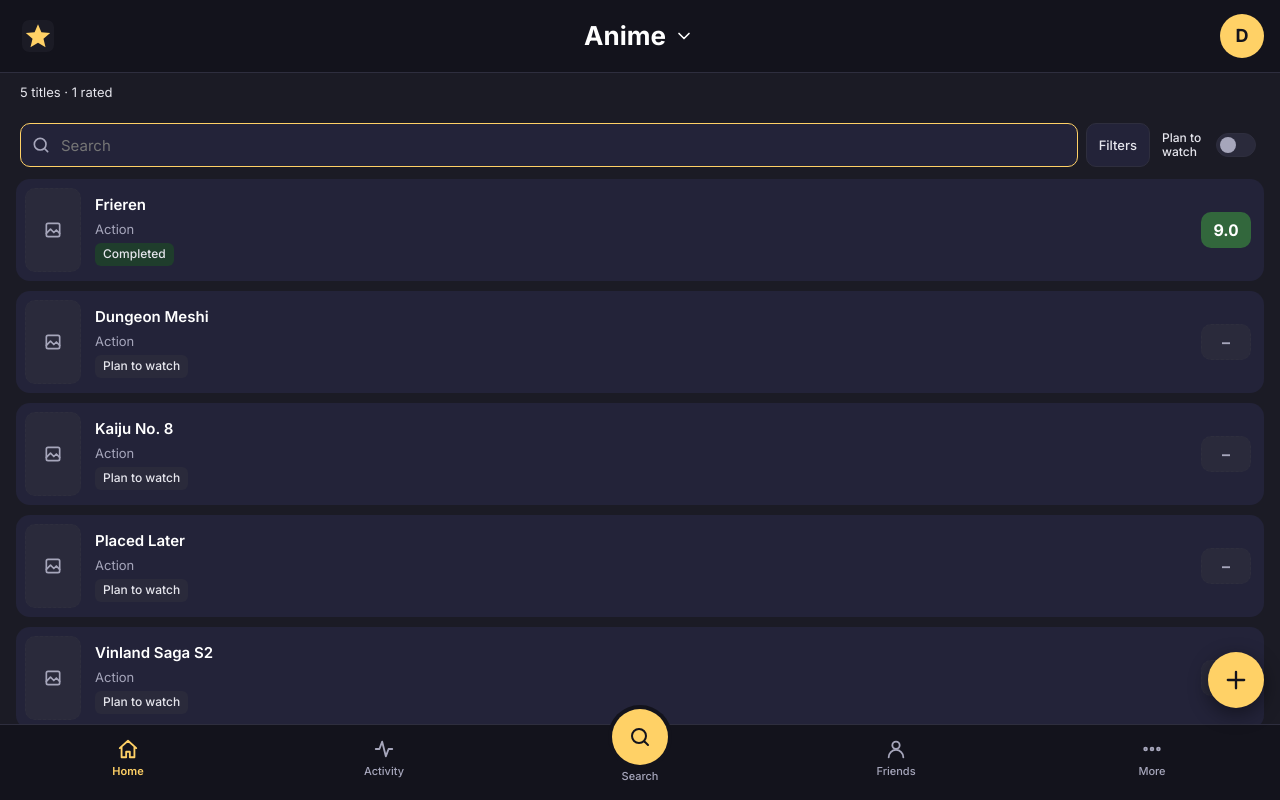
Test: Plan to watch view › reordering › while a search or genre filter hides titles, nothing can be moved but positions stay true
Check: the text "Frieren" is shown, box 95,194 -> 146,215
Click the switch labelled "Plan to watch": coordinates (1209, 145) 1158,123 -> 1260,167
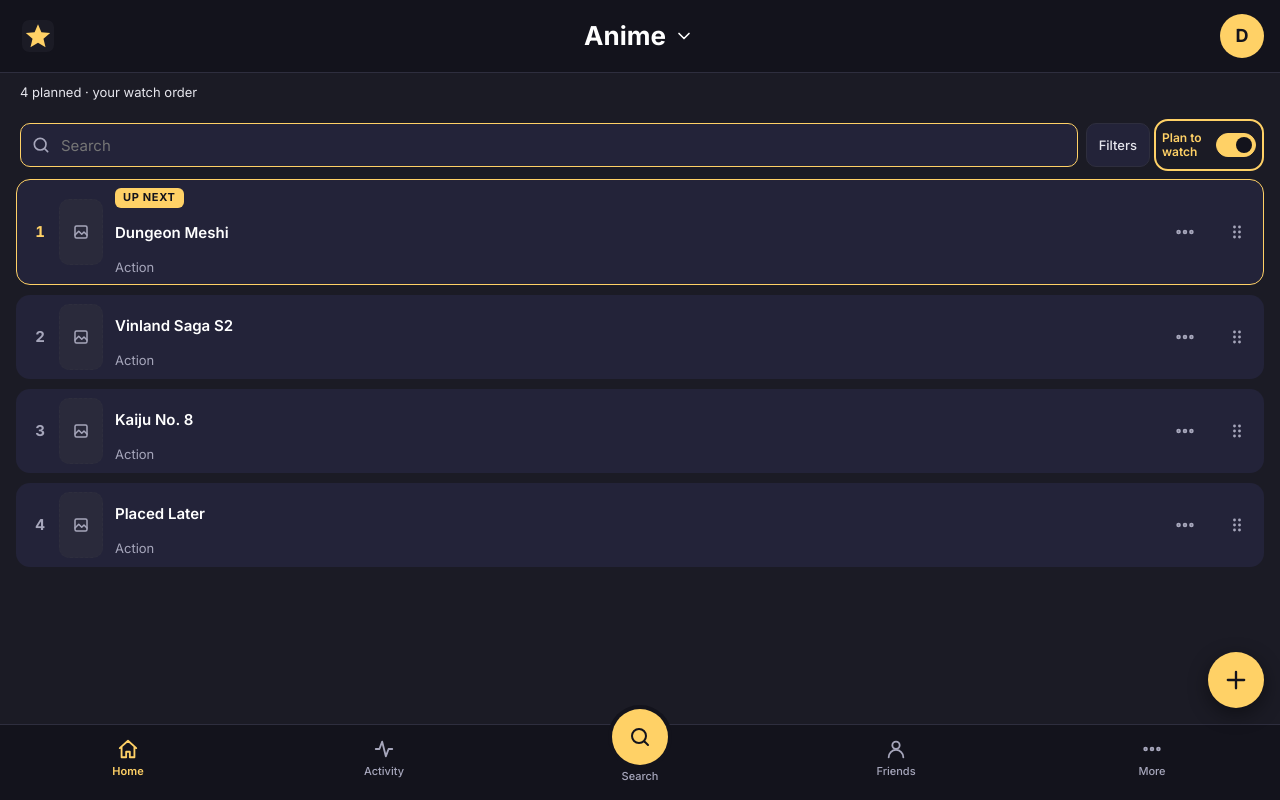
In the search field named "Search Anime": coordinates (549, 145) 20,123 -> 1078,167, type "kaiju"
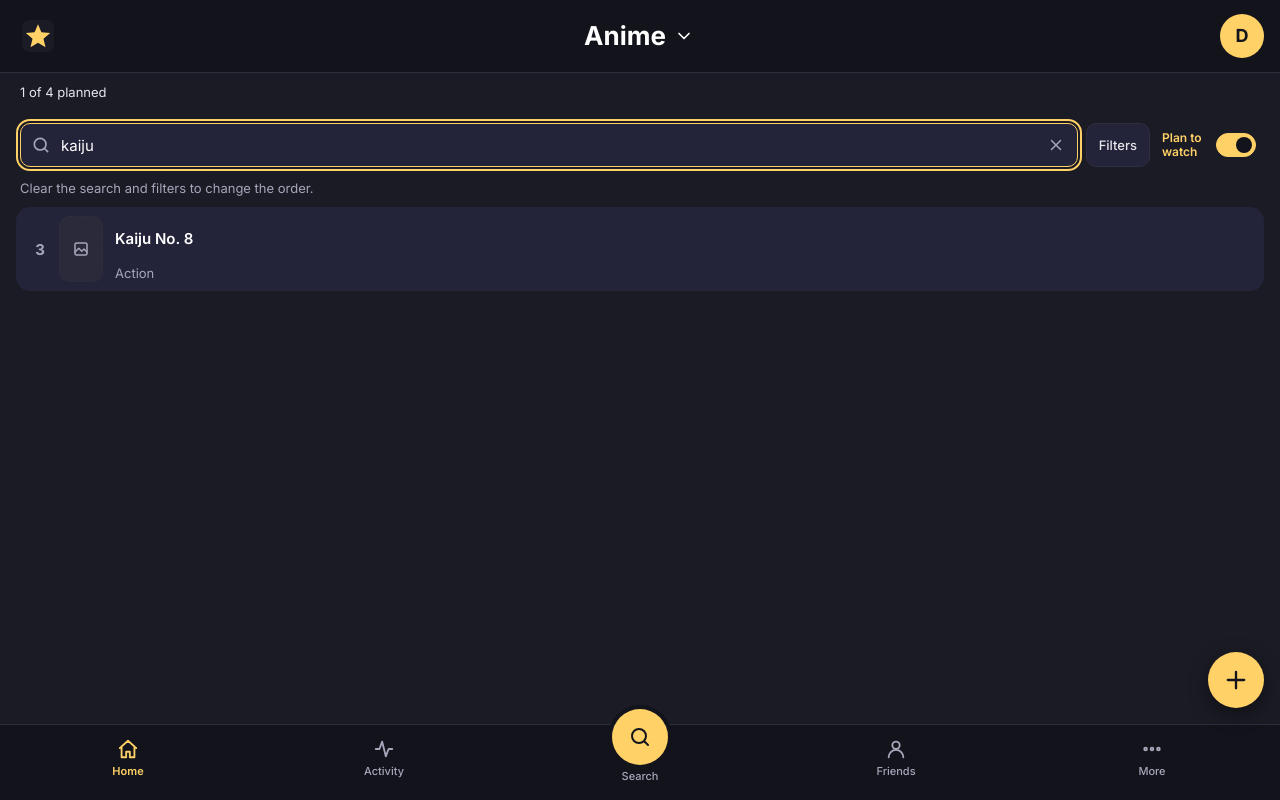
Check: the text "Clear the search and filters to change the order." is shown, box 20,180 -> 314,196
